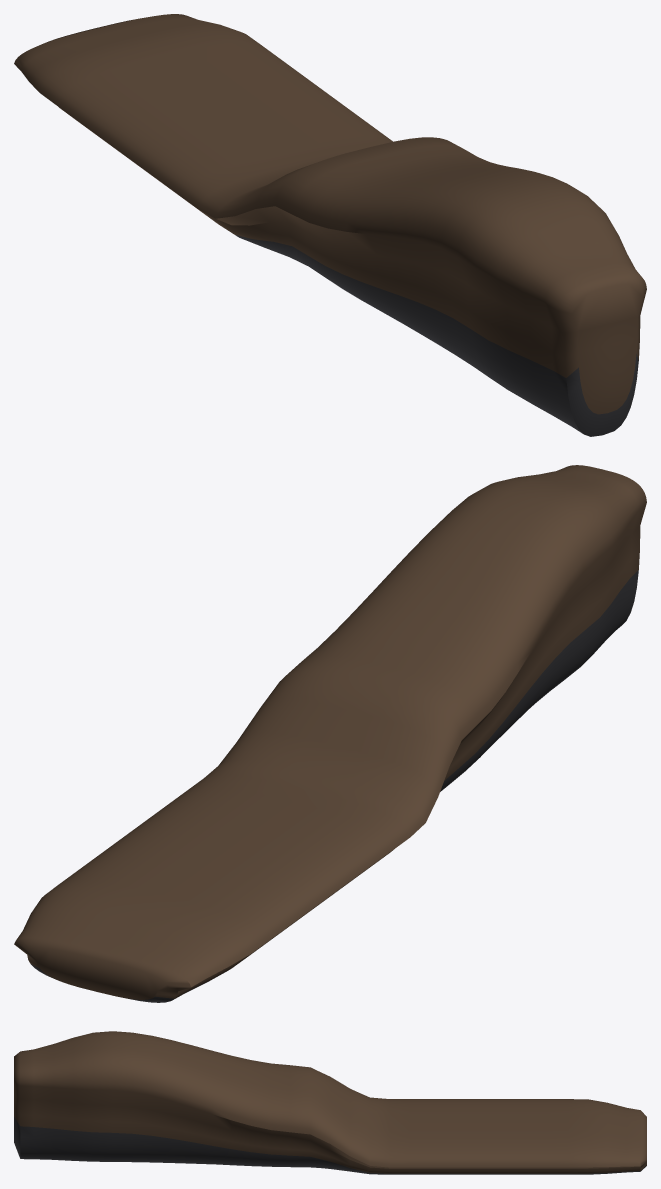
File: sport.glb
The picture shows the model from 3 angles, top to bottom: view 1: azimuth 30°, elevation 25°; view 2: azimuth 150°, elevation 25°; view 3: azimuth 270°, elevation 25°; orthographic projection. The views are drawn at different scales.
Visible parts, largest first — view 1: lod0; view 2: lod0; view 3: lod0.
Boxes of the visible parts, left/top/right/bottom form: lod0: left=14, top=14, right=646, bottom=436; lod0: left=14, top=465, right=646, bottom=1002; lod0: left=14, top=1031, right=646, bottom=1174.
Size of what is drawn, in the model's own units: 0.2393 by 0.1999 by 1.
